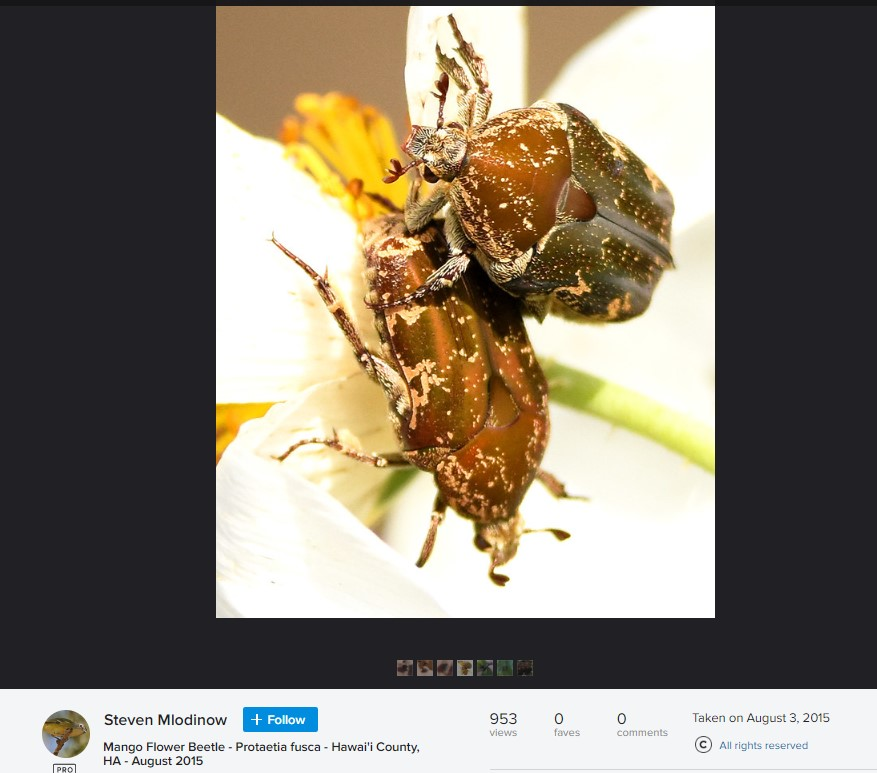Protaetia_fusca: (256, 207, 590, 595), (387, 12, 679, 325)
